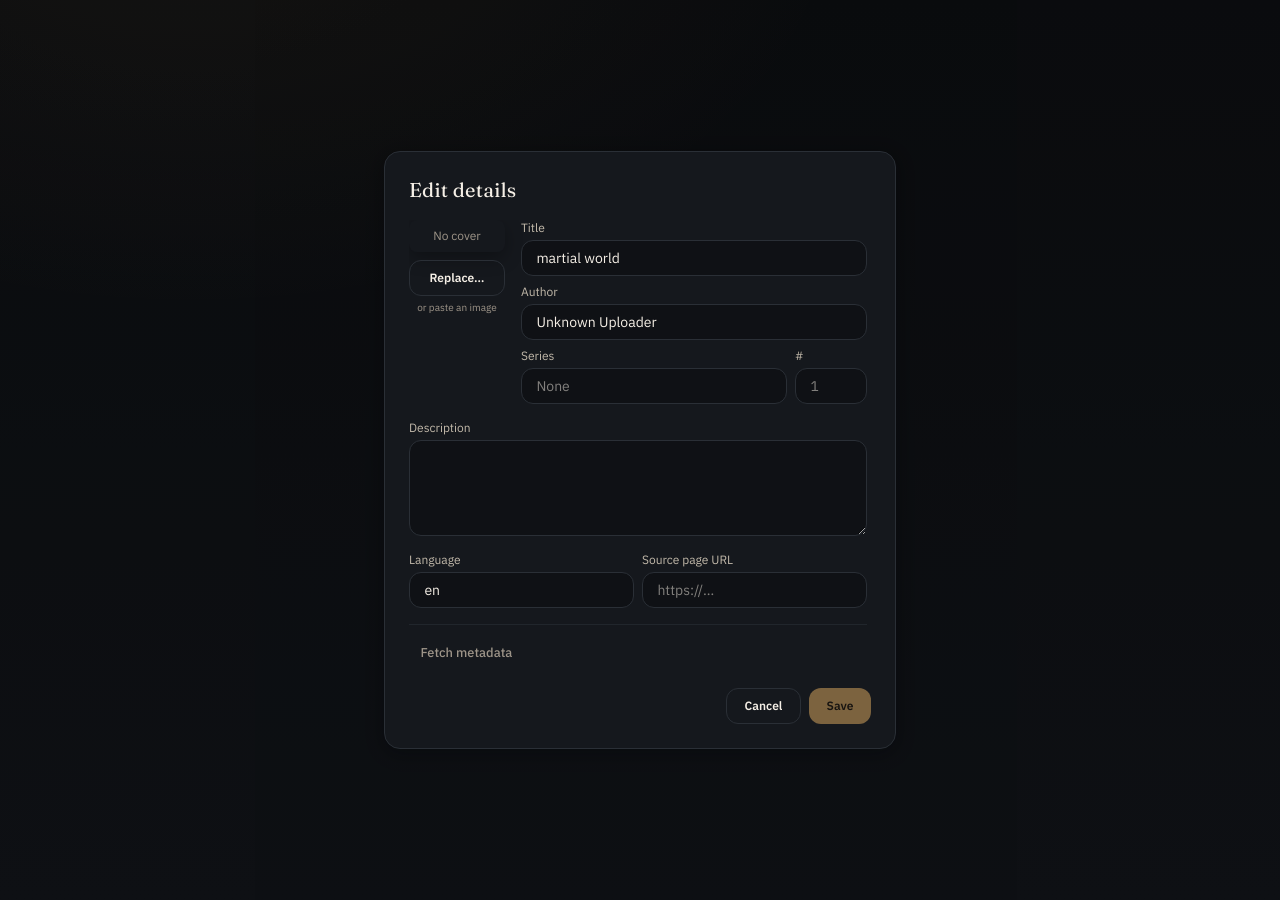
Test case: EditBookDialog › never renders or saves an unsafe source-page link
Type "javascript:alert(document.domain)" into the field labelled "Source page URL" at (754, 590), box [642,572,867,608]
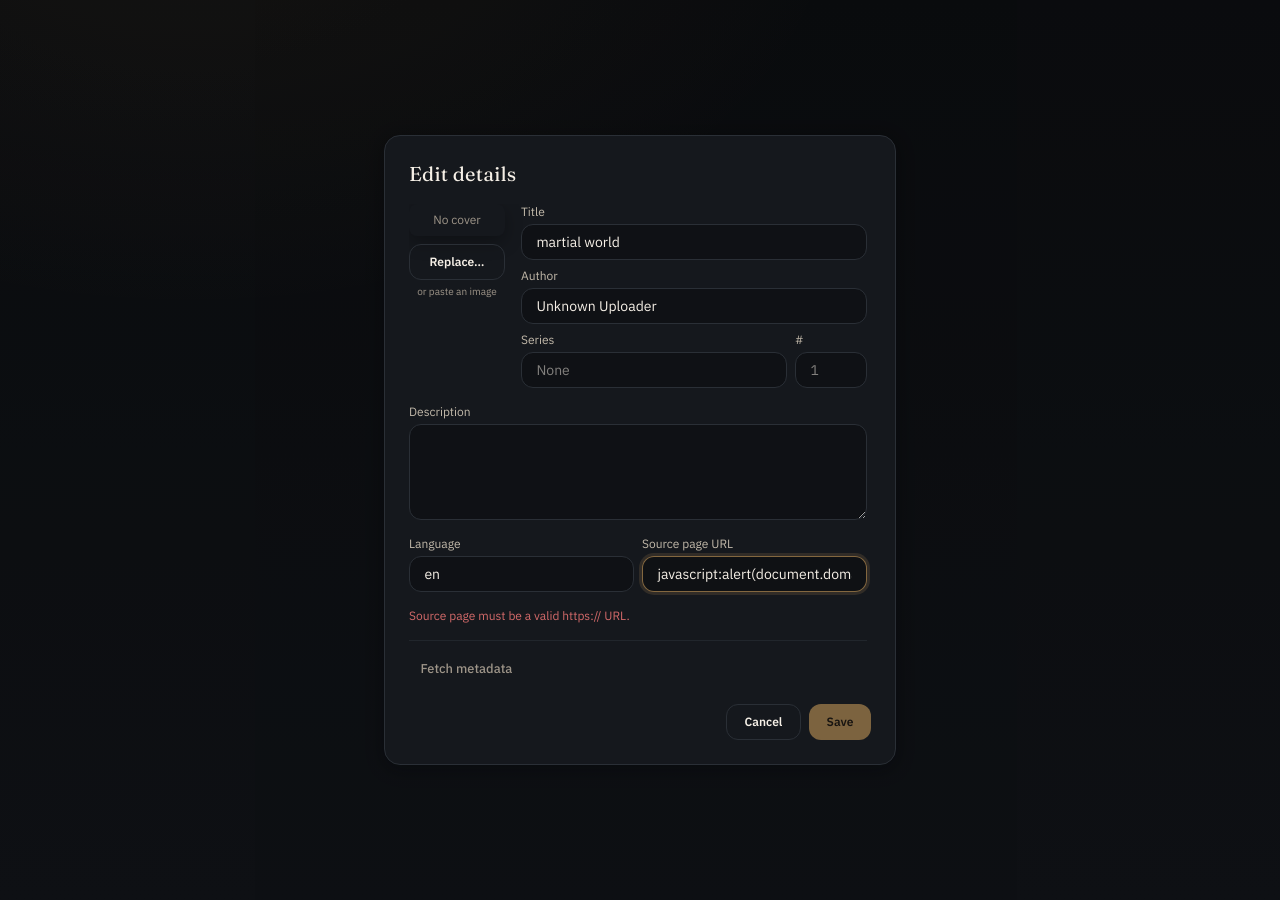
Check: the button "Save" is disabled, box [809,704,871,740]
Replace the text in the field labelled "Source page URL" with "https://example.com/books/clockwork" at (754, 574), box [642,556,867,592]
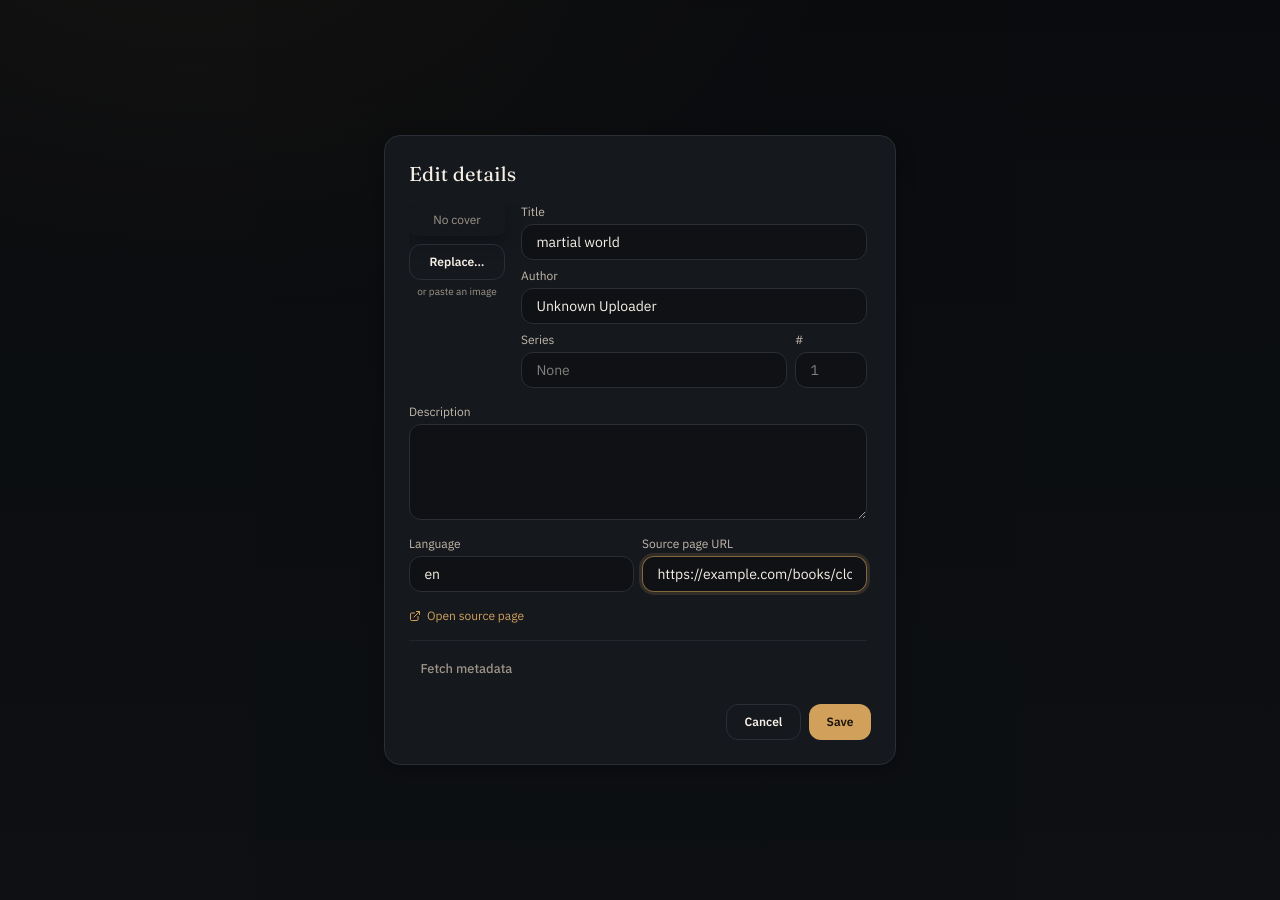
Check: the button "Save" is enabled, box [809,704,871,740]
